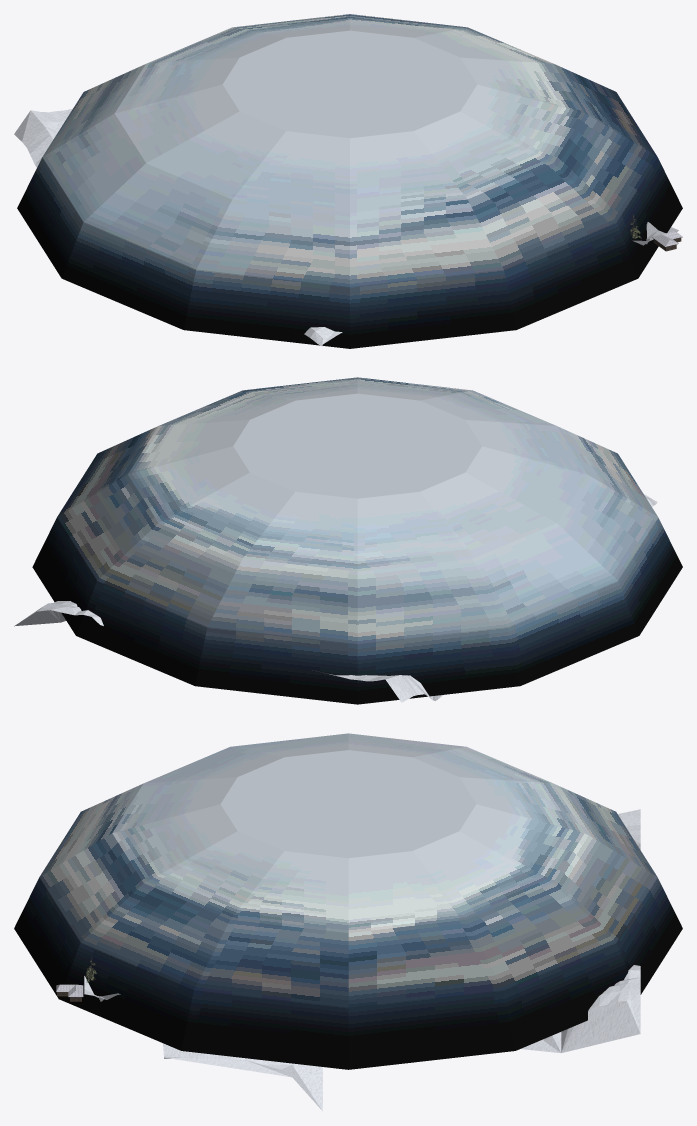
Rendered from recovered_map_mp83.glb.
3 renders of one model, top to bottom at view 1: azimuth 30°, elevation 25°; view 2: azimuth 150°, elevation 25°; view 3: azimuth 270°, elevation 25°, orthographic. The views are drawn at different scales.
Parts seen in each view (by area): view 1: S_gen_cloudy_blue_sky, S_gen_cloudy_blue_top, W_snowTile; view 2: S_gen_cloudy_blue_sky, S_gen_cloudy_blue_top, W_snowTile; view 3: S_gen_cloudy_blue_sky, S_gen_cloudy_blue_top, W_snowTile.
Boxes of the visible parts, x1,y1,x2,y2 form: S_gen_cloudy_blue_sky: (17,14,682,348); S_gen_cloudy_blue_top: (222,30,477,138); W_snowTile: (14,108,678,346); S_gen_cloudy_blue_sky: (32,377,682,704); S_gen_cloudy_blue_top: (233,393,481,498); W_snowTile: (14,494,657,702); S_gen_cloudy_blue_sky: (14,733,682,1069); S_gen_cloudy_blue_top: (220,750,476,858); W_snowTile: (84,809,640,1111).
Size of what is drawn, in the model's own units: 303 by 95.5 by 303.
72 materials, 72 textured.
